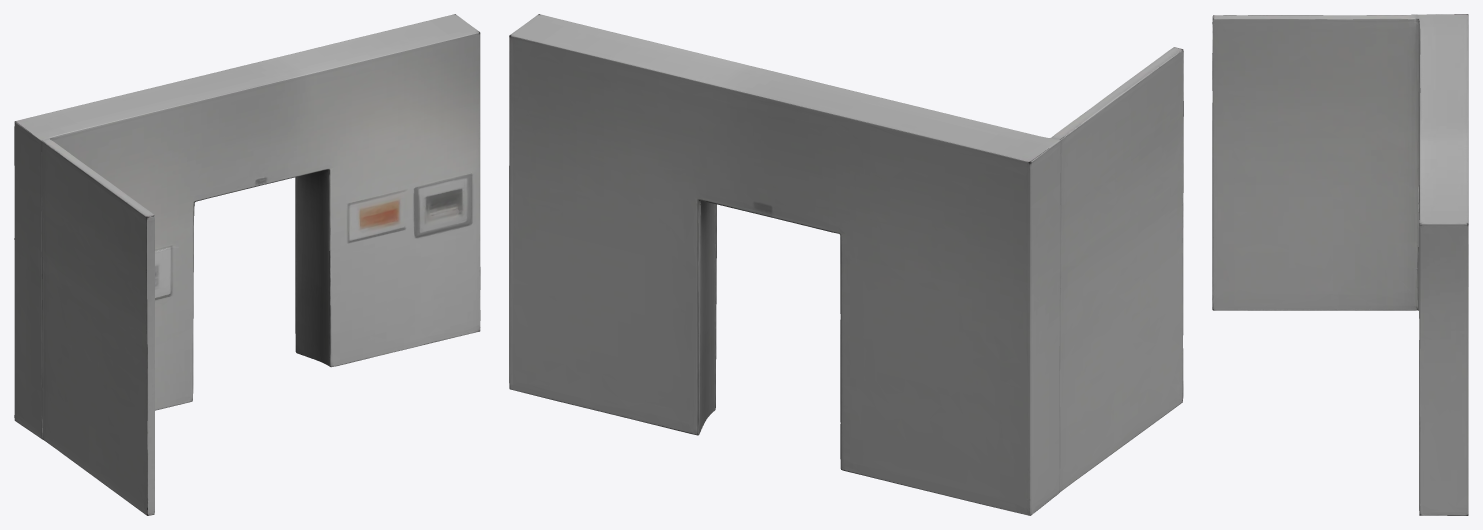
Rendered from divider.glb.
3 renders of one model, left to right at view 1: azimuth 30°, elevation 25°; view 2: azimuth 150°, elevation 25°; view 3: azimuth 270°, elevation 25°, orthographic. The views are drawn at different scales.
Visible parts, largest first — view 1: geometry_0; view 2: geometry_0; view 3: geometry_0.
Boxes of the visible parts, bbox=[...] form: geometry_0: bbox=[14, 14, 480, 515]; geometry_0: bbox=[509, 14, 1183, 515]; geometry_0: bbox=[1212, 14, 1468, 515].
Bounding box in the file's own units: 1 × 0.6498 × 0.5161.
Materials: 1 (1 with a texture image).
